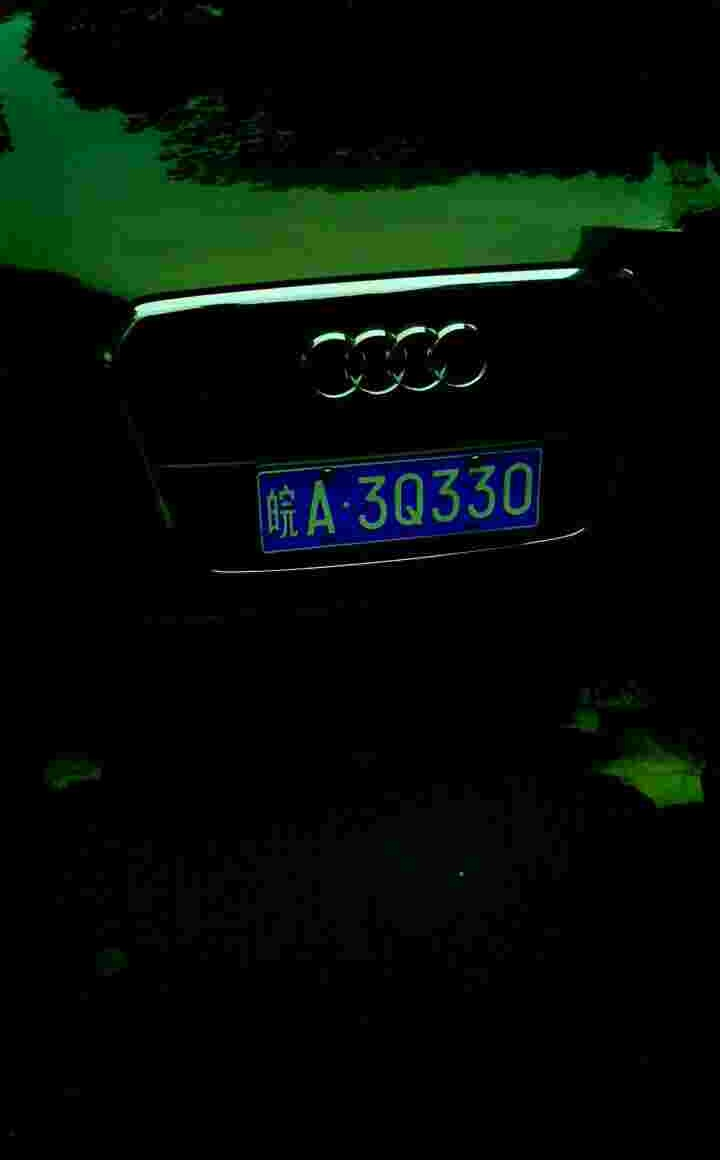license_plate: (265, 457, 548, 556)
